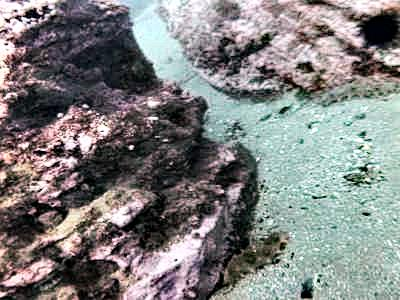urchin: (365, 10, 393, 45)
